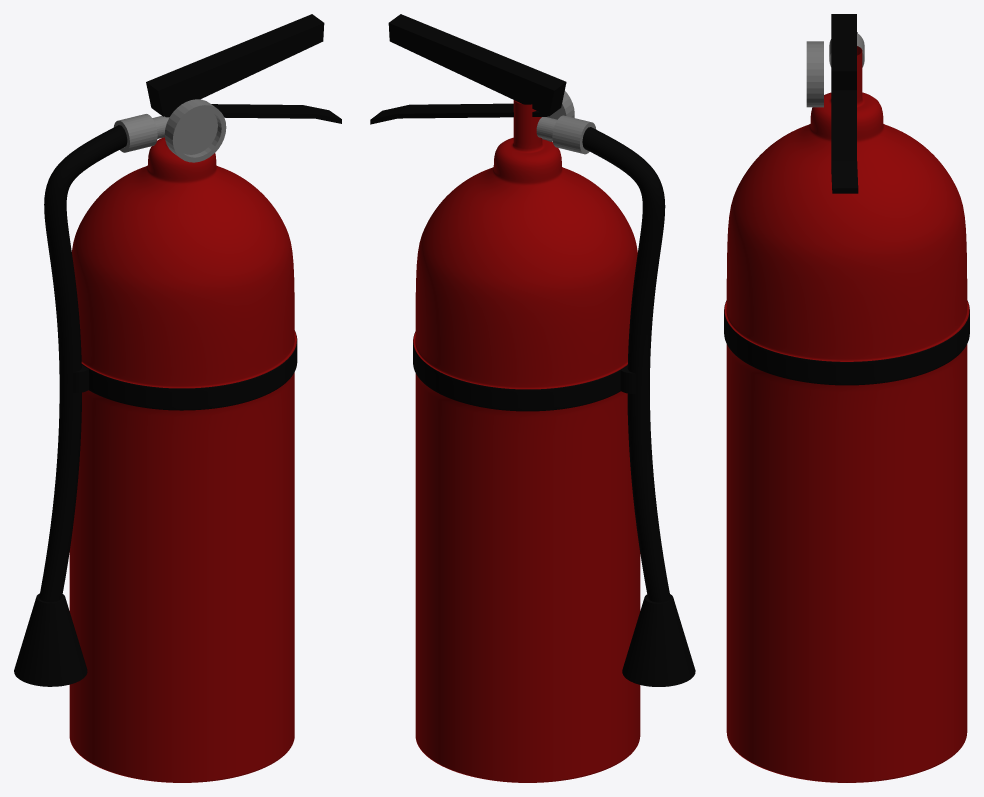
Rendered from fire_ex.glb.
The picture shows the model from 3 angles, left to right: view 1: azimuth 30°, elevation 25°; view 2: azimuth 150°, elevation 25°; view 3: azimuth 270°, elevation 25°; orthographic projection. The views are drawn at different scales.
Visible parts, largest first — view 1: Sphere, NurbsPath, Plane, Cylinder.002, Cylinder.001, Plane.001, Cylinder; view 2: Sphere, NurbsPath, Plane, Cylinder.002, Plane.001, Cylinder; view 3: Sphere, Plane.001, Plane, Cylinder.001.
Boxes of the visible parts, <box> form: Sphere: <box>69,137,297,782</box>; NurbsPath: <box>39,125,127,602</box>; Plane: <box>146,14,324,116</box>; Cylinder.002: <box>14,593,87,686</box>; Cylinder.001: <box>164,99,226,162</box>; Plane.001: <box>165,104,341,123</box>; Cylinder: <box>113,114,169,152</box>; Sphere: <box>413,100,640,782</box>; NurbsPath: <box>582,127,670,602</box>; Plane: <box>388,14,566,116</box>; Cylinder.002: <box>622,594,695,686</box>; Plane.001: <box>370,103,547,124</box>; Cylinder: <box>536,115,596,154</box>; Sphere: <box>724,46,969,782</box>; Plane.001: <box>831,90,858,193</box>; Plane: <box>831,14,856,90</box>; Cylinder.001: <box>806,41,823,107</box>.
Size of the model in its own units: 0.9451 by 1.96 by 0.5965.
